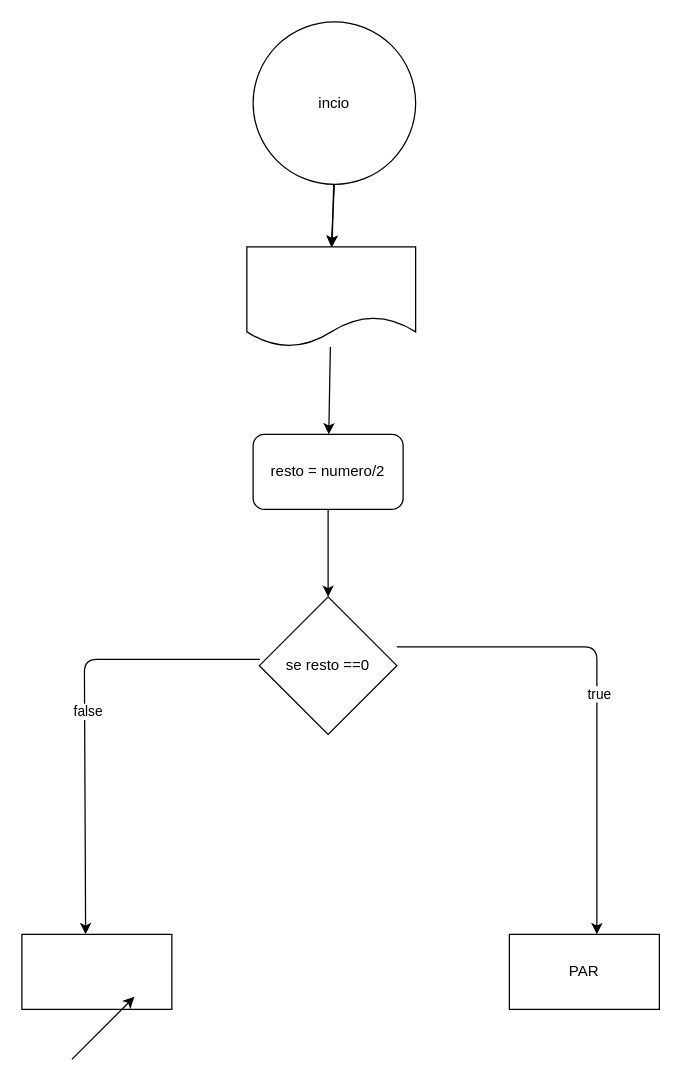
The diagram is 681 pixels wide and 1091 high, and some of its shapes have lost their labels. Here are the shapes that lost their labels. From the top down, the box of each, then its label:
(246, 246, 416, 347): Peça um número
(21, 933, 172, 1009): IMPAR
